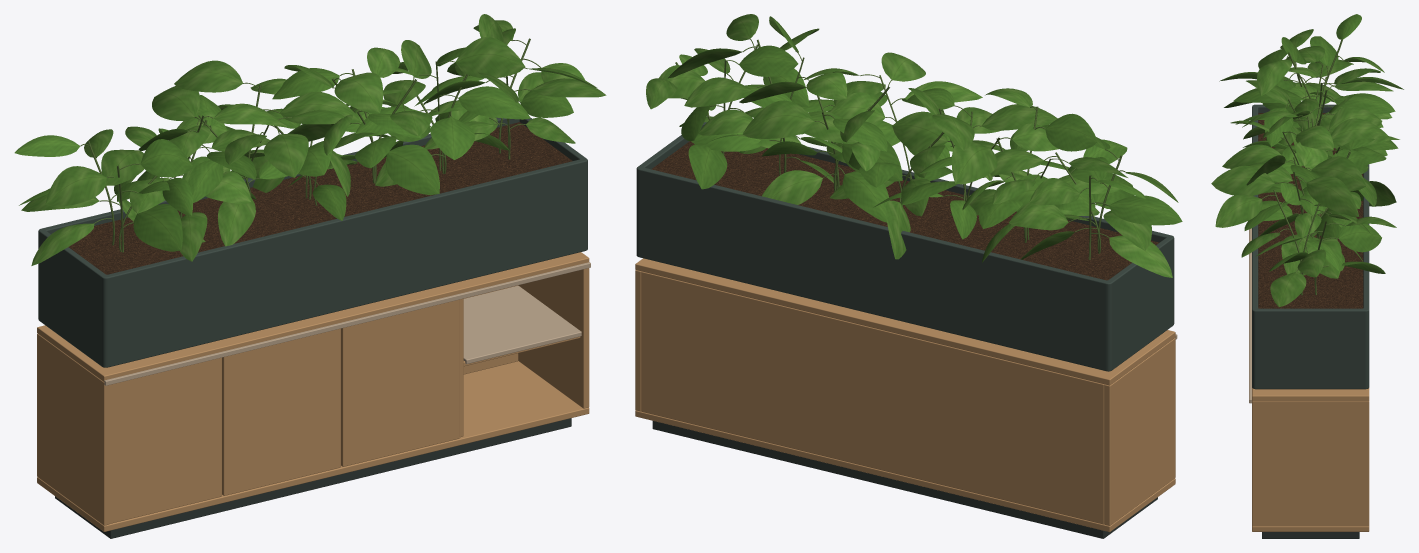
The model's file is botanicalDivider-10.glb.
3 views of the same model, side by side, from view 1: azimuth 30°, elevation 25°; view 2: azimuth 150°, elevation 25°; view 3: azimuth 270°, elevation 25° (orthographic). The views are drawn at different scales.
Visible parts, largest first — view 1: Planter_pothos_leaves, Planter_oiled_oak, StoragePlanter_Door (×3), StoragePlanter_Side (×2), Planter_loose_soil, StoragePlanter_Bottom, StoragePlanter_Top, StoragePlanter_OpenShelf, StoragePlanter_Plinth, Planter_pothos_stems, StoragePlanter_AccentRail, Planter_matte_accent (+1 smaller); view 2: StoragePlanter_Back, Planter_pothos_leaves, Planter_oiled_oak, Planter_loose_soil, StoragePlanter_Side (×2), StoragePlanter_Top, StoragePlanter_Plinth, StoragePlanter_Bottom, Planter_pothos_stems, Planter_matte_accent; view 3: Planter_pothos_leaves, StoragePlanter_Side, Planter_oiled_oak, Planter_loose_soil, Planter_pothos_stems, StoragePlanter_Top, StoragePlanter_Bottom, StoragePlanter_Plinth, StoragePlanter_AccentRail.
Boxes of the visible parts, x1=… form: Planter_pothos_leaves: x1=14, y1=14, x2=606, y2=265; Planter_oiled_oak: x1=38, y1=117, x2=587, y2=367; StoragePlanter_Door (×3): x1=105, y1=299, x2=459, y2=523; StoragePlanter_Side (×2): x1=37, y1=268, x2=589, y2=525; Planter_loose_soil: x1=68, y1=122, x2=572, y2=274; StoragePlanter_Bottom: x1=37, y1=361, x2=589, y2=531; StoragePlanter_Top: x1=37, y1=252, x2=589, y2=381; StoragePlanter_OpenShelf: x1=463, y1=285, x2=581, y2=364; StoragePlanter_Plinth: x1=55, y1=418, x2=571, y2=538; Planter_pothos_stems: x1=80, y1=38, x2=541, y2=252; StoragePlanter_AccentRail: x1=104, y1=262, x2=590, y2=385; Planter_matte_accent: x1=112, y1=289, x2=331, y2=349; StoragePlanter_Back: x1=641, y1=271, x2=1104, y2=524; Planter_pothos_leaves: x1=646, y1=14, x2=1182, y2=277; Planter_oiled_oak: x1=636, y1=122, x2=1174, y2=371; Planter_loose_soil: x1=651, y1=141, x2=1159, y2=280; StoragePlanter_Side (×2): x1=635, y1=270, x2=1175, y2=525; StoragePlanter_Top: x1=635, y1=258, x2=1175, y2=385; StoragePlanter_Plinth: x1=652, y1=421, x2=1157, y2=538; StoragePlanter_Bottom: x1=635, y1=410, x2=1175, y2=532; Planter_pothos_stems: x1=675, y1=39, x2=1125, y2=259; Planter_matte_accent: x1=643, y1=229, x2=1081, y2=347; Planter_pothos_leaves: x1=1211, y1=14, x2=1403, y2=307; StoragePlanter_Side: x1=1252, y1=401, x2=1369, y2=526; Planter_oiled_oak: x1=1252, y1=104, x2=1369, y2=389; Planter_loose_soil: x1=1258, y1=113, x2=1363, y2=308; Planter_pothos_stems: x1=1262, y1=39, x2=1350, y2=295; StoragePlanter_Top: x1=1252, y1=387, x2=1369, y2=401; StoragePlanter_Bottom: x1=1252, y1=526, x2=1369, y2=531; StoragePlanter_Plinth: x1=1262, y1=532, x2=1359, y2=538; StoragePlanter_AccentRail: x1=1249, y1=228, x2=1251, y2=403.
Size of the model in its own units: 2.26 by 1.58 by 0.7924.
Materials: 10 (2 with a texture image).
